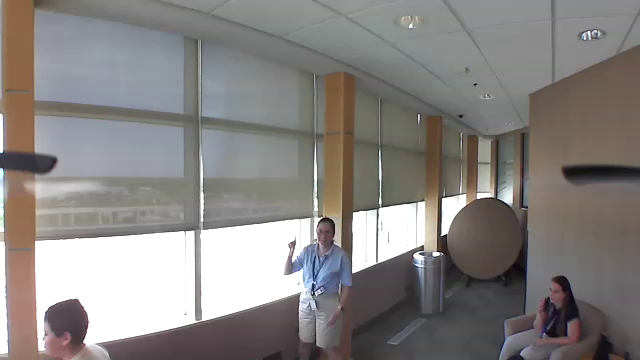up: (284, 231, 302, 254)
